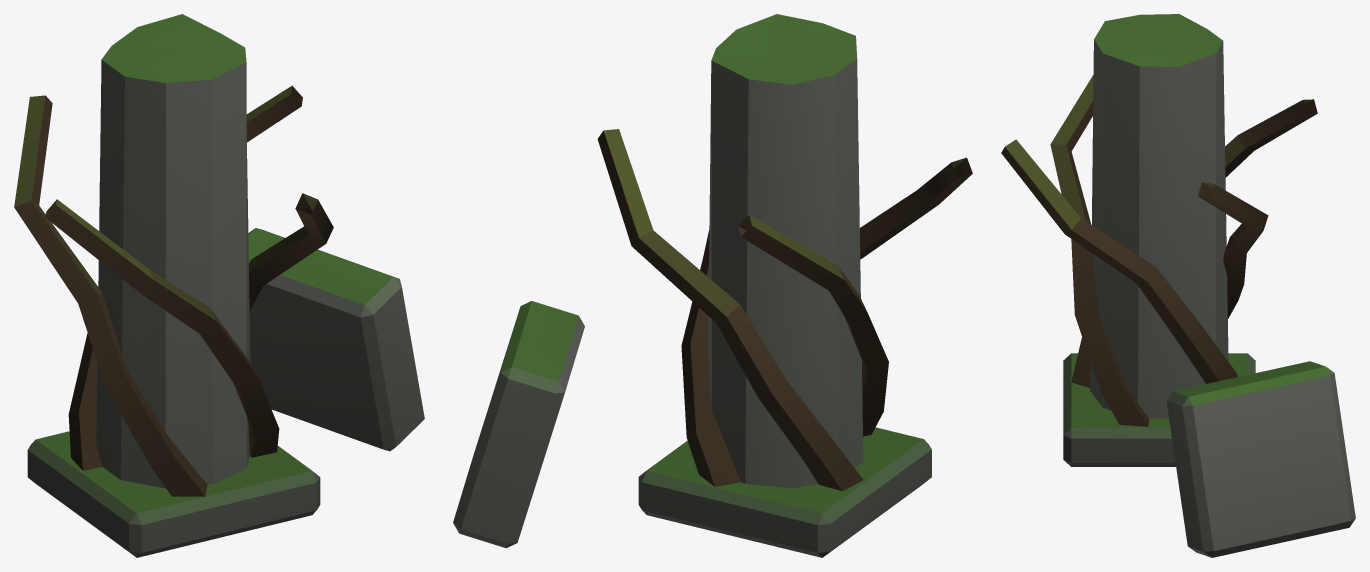
File: jungle_ruin_c.glb
The picture shows the model from 3 angles, left to right: view 1: azimuth 30°, elevation 25°; view 2: azimuth 150°, elevation 25°; view 3: azimuth 270°, elevation 25°; orthographic projection. The views are drawn at different scales.
Visible parts, largest first — view 1: jungle_ruin_c; view 2: jungle_ruin_c; view 3: jungle_ruin_c.
Boxes of the visible parts, x1,y1,x2,y2 form: jungle_ruin_c: [14, 14, 424, 557]; jungle_ruin_c: [453, 14, 972, 557]; jungle_ruin_c: [1001, 14, 1355, 557].
Size of the model in its own units: 1.5 by 1.56 by 1.21.
